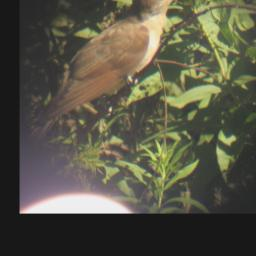Cuckoo: (24, 0, 191, 150)
